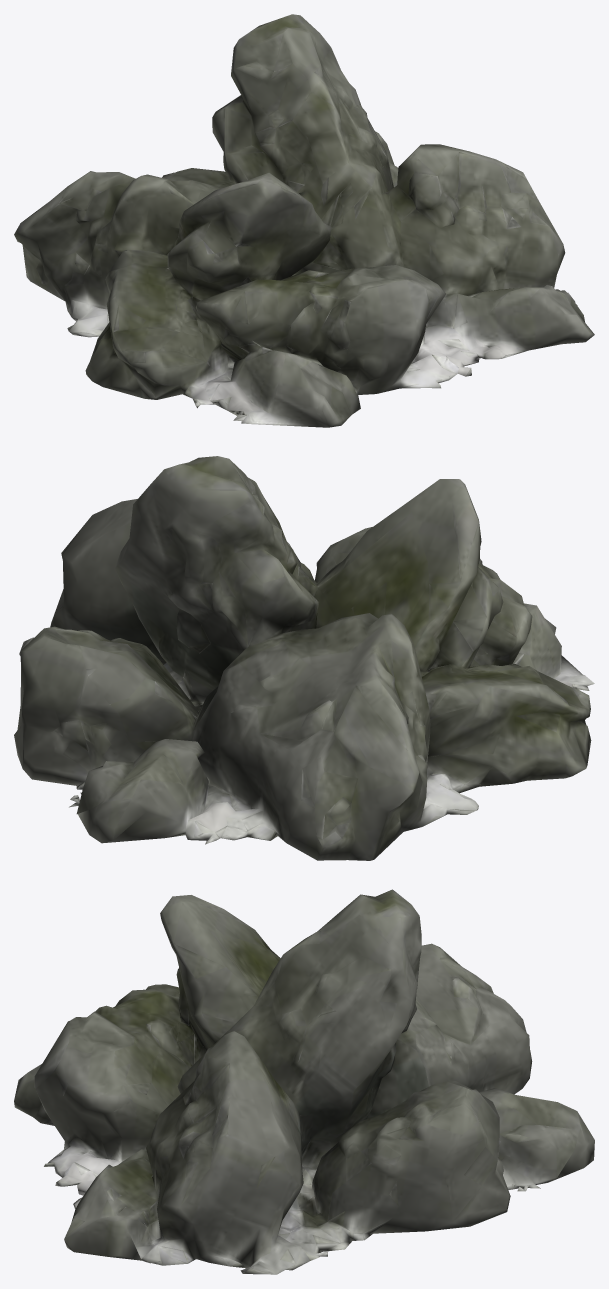
Rendered from rescue-rock.glb.
The picture shows the model from 3 angles, top to bottom: view 1: azimuth 30°, elevation 25°; view 2: azimuth 150°, elevation 25°; view 3: azimuth 270°, elevation 25°; orthographic projection. The views are drawn at different scales.
Parts seen in each view (by area): view 1: Mesh_0; view 2: Mesh_0; view 3: Mesh_0.
Part boxes in pixels (left/top/right/bottom): Mesh_0: left=14, top=14, right=594, bottom=427; Mesh_0: left=14, top=456, right=594, bottom=860; Mesh_0: left=14, top=889, right=594, bottom=1274.
Bounding box in the file's own units: 1.89 × 0.9673 × 1.89.
1 material, 1 textured.
